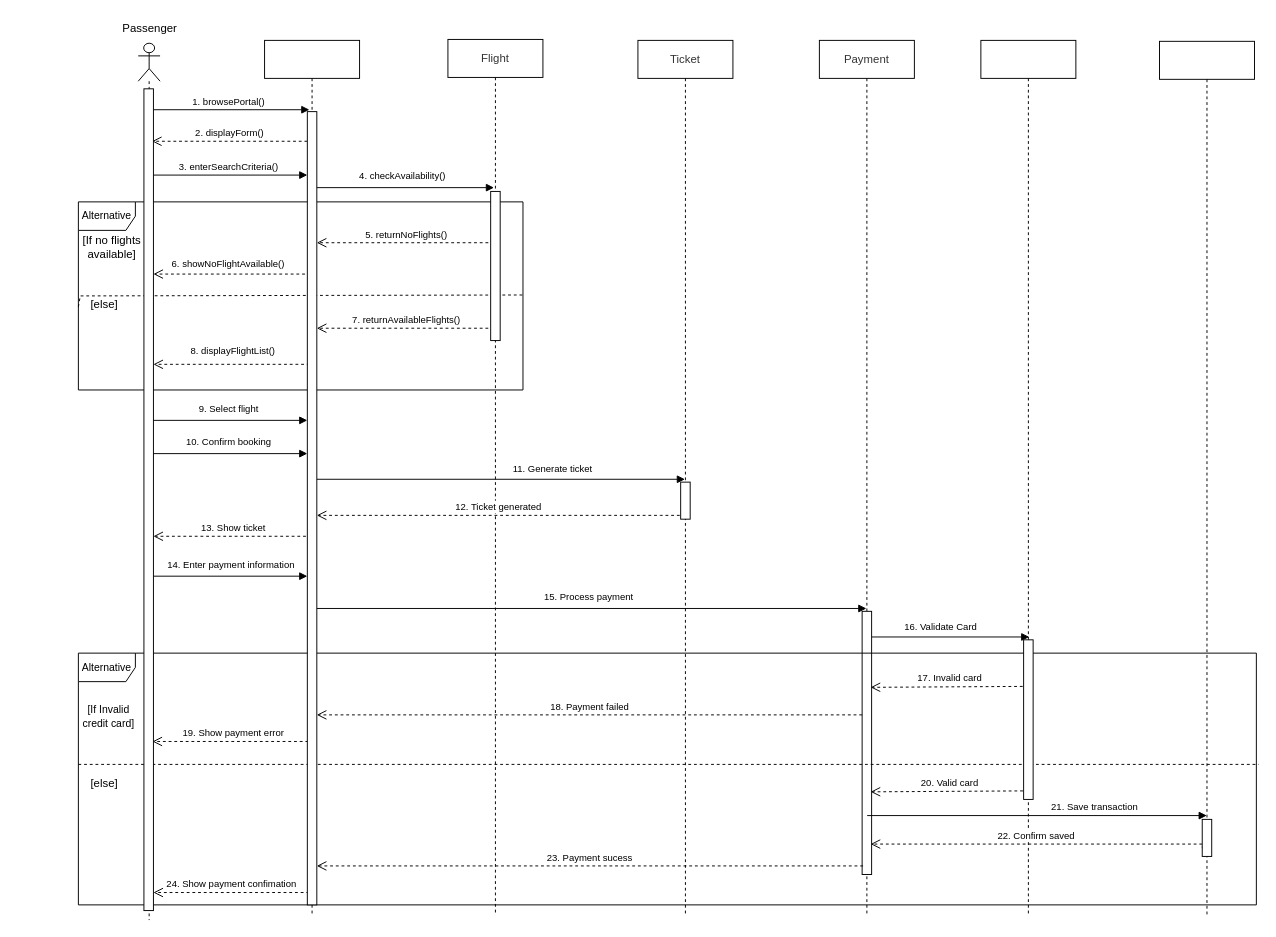
The diagram is 1276 pixels wide and 937 high, and some of its shapes have lost their labels. Each missing label, with the box of its shape:
CreditCard: (980, 39, 1076, 915)
TicketDatabase: (1159, 40, 1254, 916)
WebsiteSystem: (264, 39, 360, 916)
